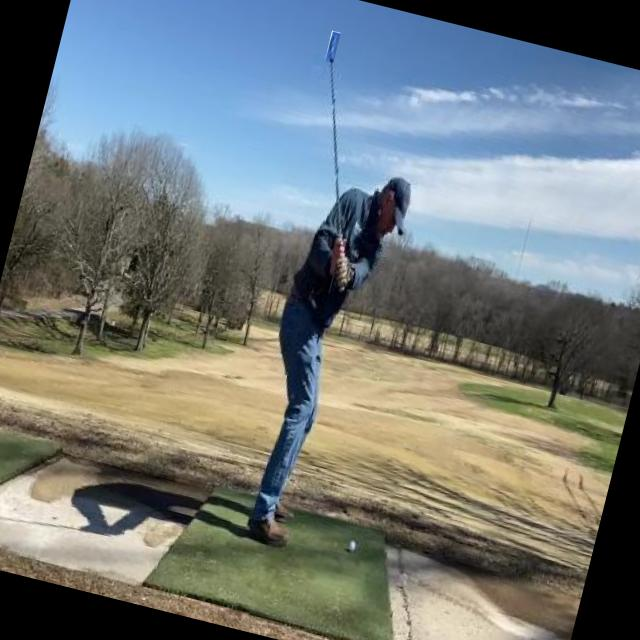club head: (324, 31, 340, 62)
